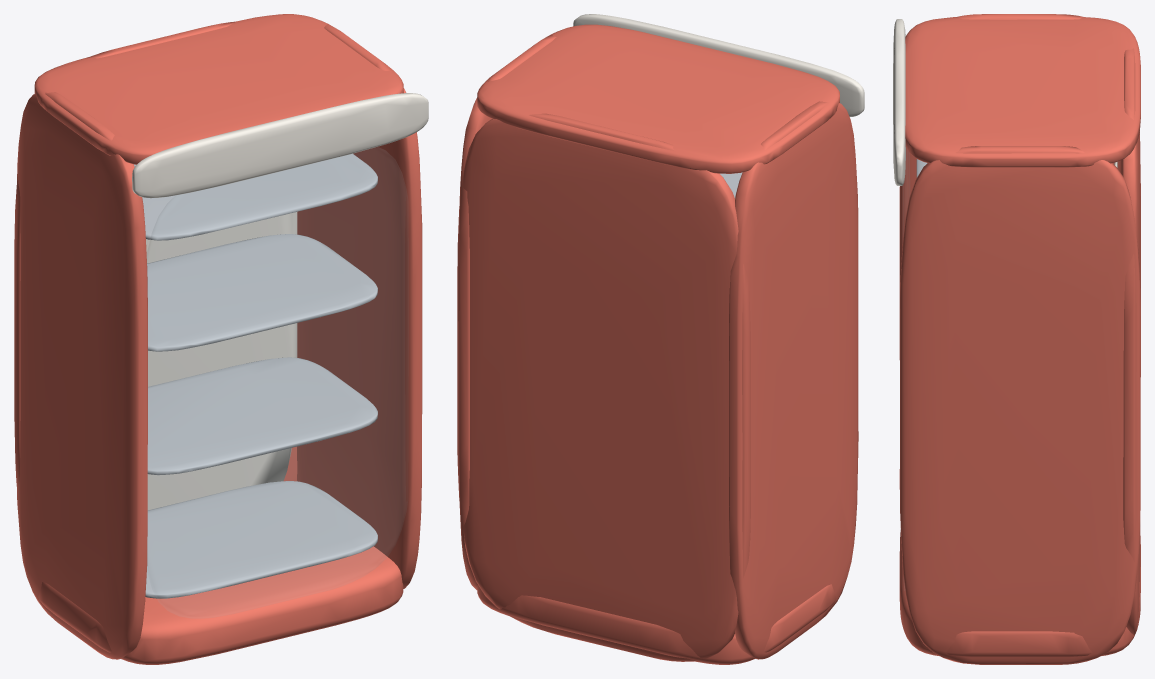
File: vitrina_bebidas_2.glb
3 renders of one model, left to right at view 1: azimuth 30°, elevation 25°; view 2: azimuth 150°, elevation 25°; view 3: azimuth 270°, elevation 25°, orthographic.
Visible parts, largest first — view 1: costado.006, costado.007, techo.003, repisa.012, repisa.013, repisa.014, piso.003, cabecera, panel interior.002, repisa.015, fondo.003; view 2: fondo.003, costado.006, techo.003, piso.003, costado.007, cabecera; view 3: costado.007, techo.003, fondo.003, piso.003, cabecera, costado.006.
Boxes of the visible parts, x1,y1,x2,y2 form: costado.006: (17, 92, 147, 659); costado.007: (297, 24, 422, 588); techo.003: (34, 14, 403, 164); repisa.012: (145, 481, 377, 598); repisa.013: (147, 357, 377, 475); repisa.014: (147, 234, 377, 351); piso.003: (38, 546, 403, 664); cabecera: (132, 93, 428, 198); panel interior.002: (146, 212, 297, 510); repisa.015: (134, 153, 377, 240); fondo.003: (14, 21, 297, 491); fondo.003: (457, 113, 750, 661); costado.006: (729, 101, 858, 659); techo.003: (477, 24, 839, 173); piso.003: (477, 584, 836, 664); costado.007: (458, 35, 556, 589); cabecera: (573, 14, 864, 116); costado.007: (899, 146, 1140, 664); techo.003: (905, 17, 1140, 167); fondo.003: (1117, 48, 1140, 635); piso.003: (899, 529, 1140, 657); cabecera: (893, 19, 905, 185); costado.006: (899, 14, 1140, 359).
Size of the model in its own units: 0.9995 by 1.71 by 0.7397.
